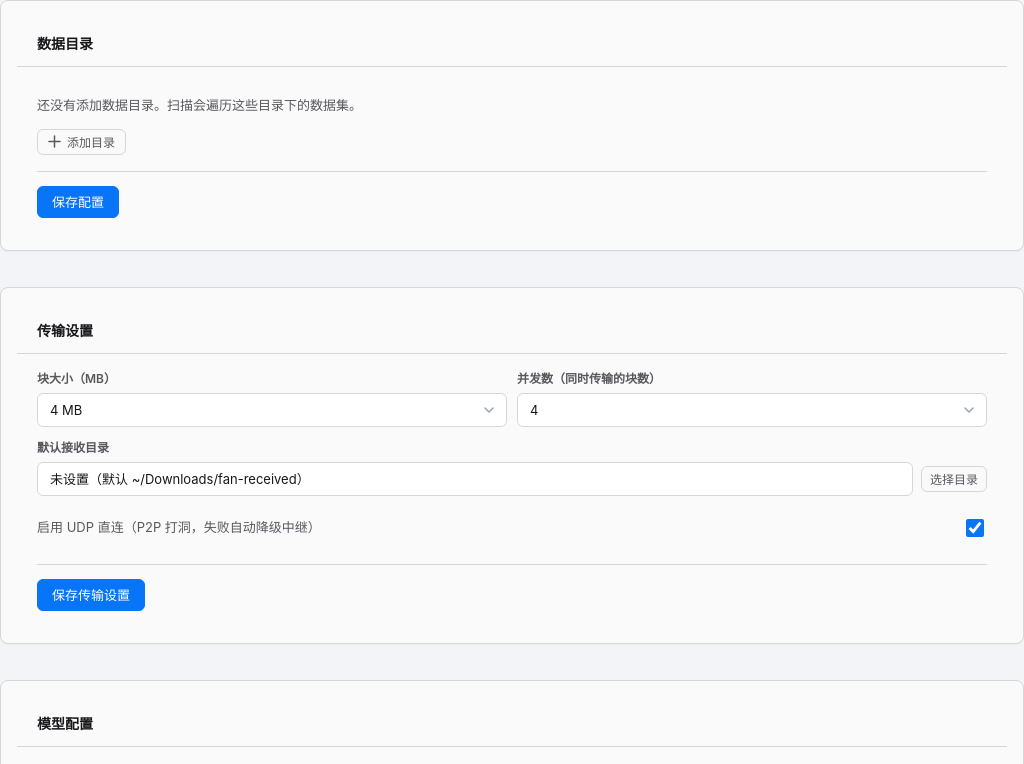
Test: SettingsPage › shows in-page feedback after a successful save
This screenshot has width=1024, height=764.
Click the button "保存配置".
click(78, 202)  # box [37, 186, 119, 218]
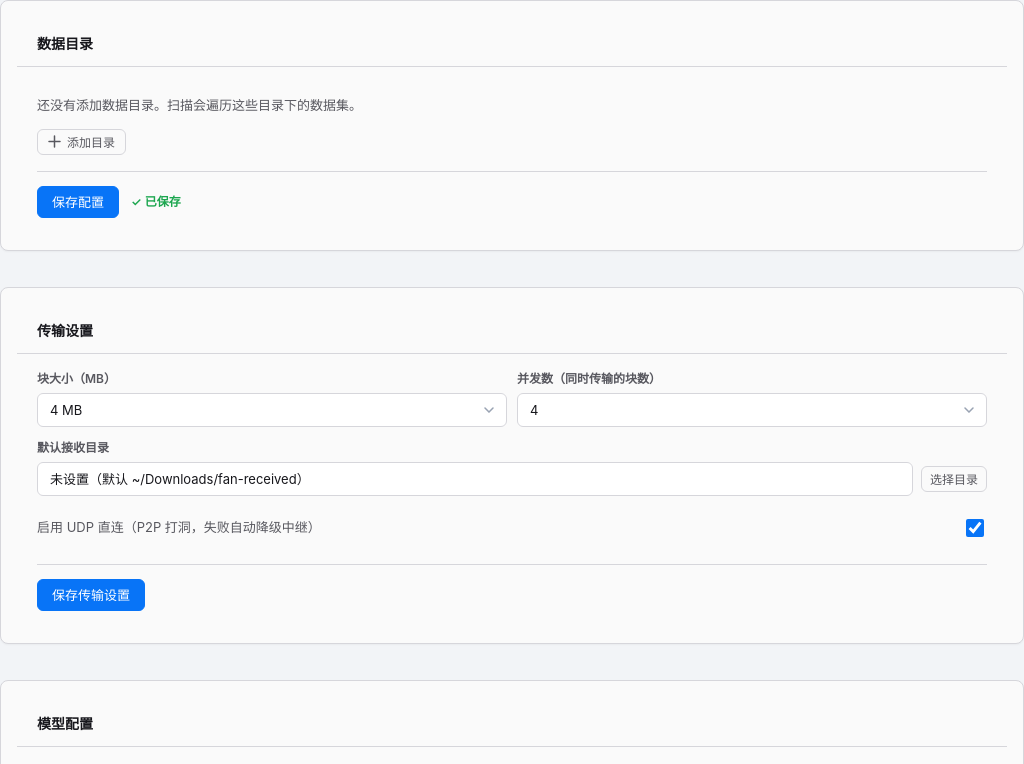
expect the text "✓ 已保存" is shown: met, box [131, 192, 181, 210]
